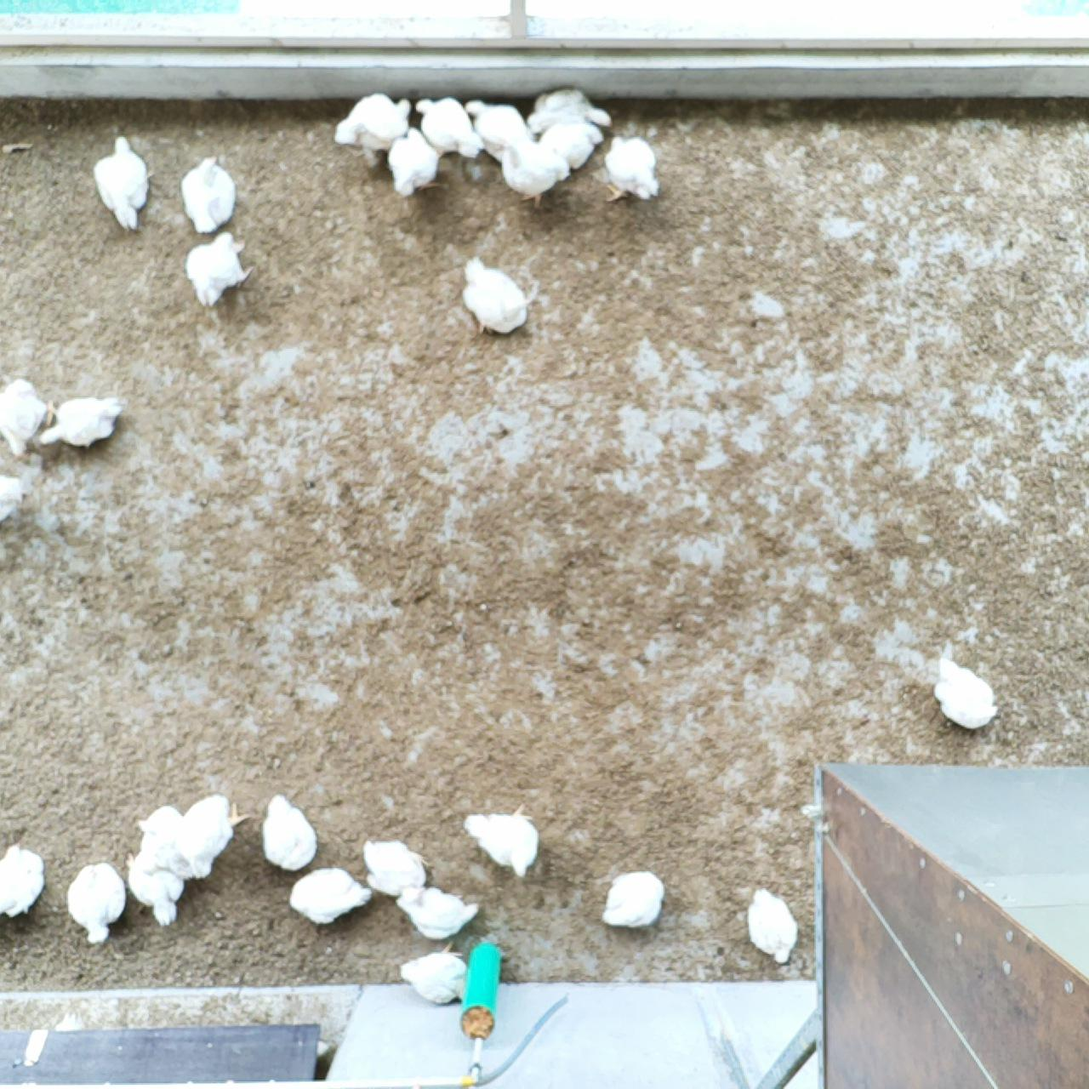chicken: (461, 804, 547, 878), (181, 229, 254, 315), (178, 794, 248, 881), (94, 133, 151, 238), (460, 253, 531, 336), (394, 878, 482, 942), (39, 394, 131, 452), (931, 652, 999, 730), (65, 860, 128, 944), (123, 841, 185, 926), (334, 93, 416, 157), (498, 135, 571, 206), (287, 868, 376, 926), (600, 131, 664, 211), (392, 946, 473, 1009), (257, 787, 316, 872), (745, 881, 800, 971), (177, 156, 238, 237), (464, 93, 533, 164), (356, 838, 433, 901), (134, 803, 196, 881), (0, 373, 54, 461), (384, 124, 442, 199), (597, 870, 668, 931), (418, 93, 482, 160), (525, 86, 613, 134), (534, 120, 606, 177), (0, 842, 47, 920), (0, 465, 37, 531)
